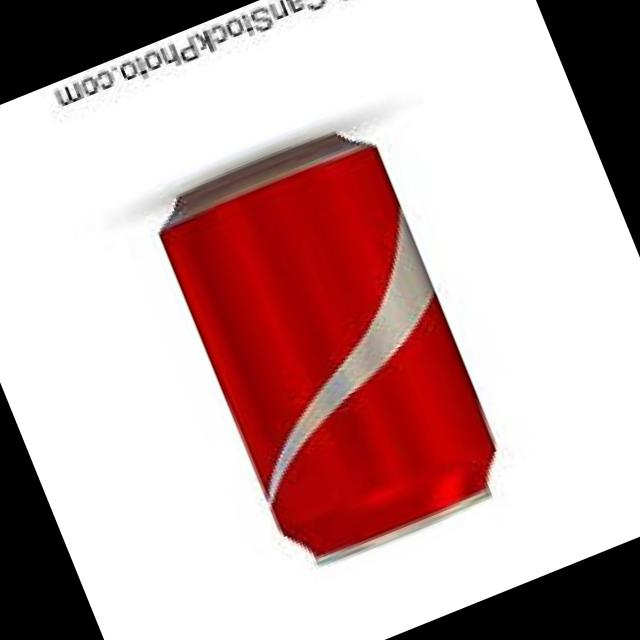Kaleng: (146, 118, 519, 580)
